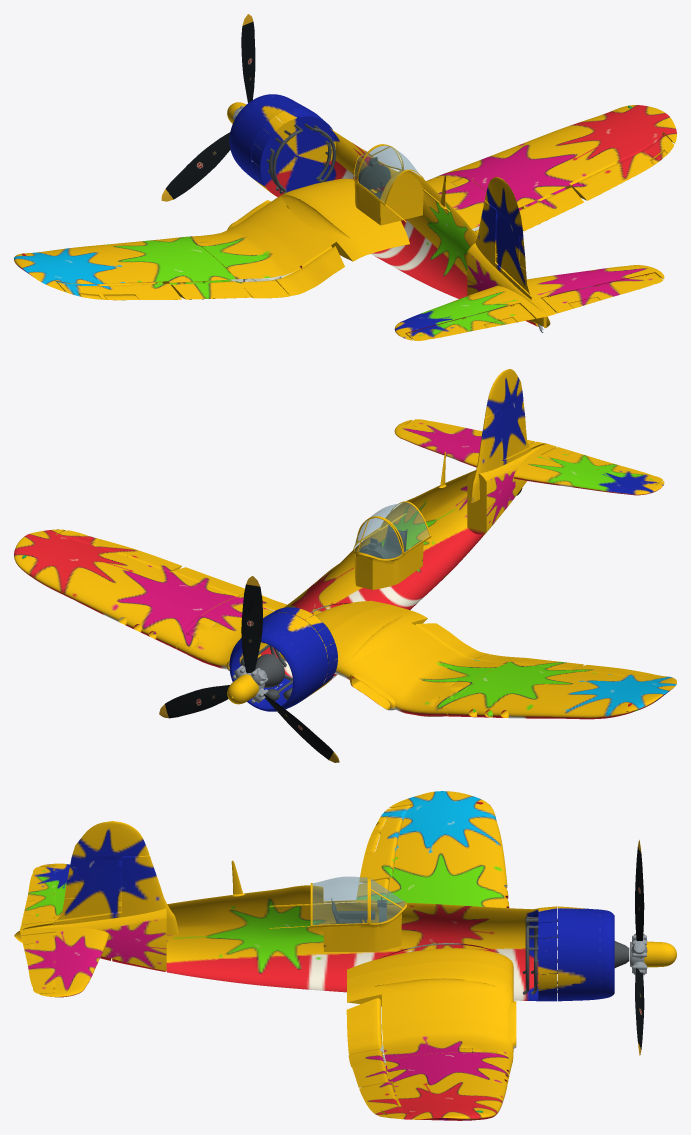
The model's file is aircraft_splash.glb.
3 renders of one model, top to bottom at view 1: azimuth 30°, elevation 25°; view 2: azimuth 150°, elevation 25°; view 3: azimuth 270°, elevation 25°, orthographic. The views are drawn at different scales.
Visible parts, largest first — view 1: fuselage_core, wing_center_fixed, wing_right_fixed, wing_left_fixed, stabilizer_fixed, elevator, cowl, propeller_rotor, rudder, aileron_right, canopy_glass, aileron_left (+8 smaller); view 2: wing_center_fixed, fuselage_core, wing_right_fixed, wing_left_fixed, cowl, stabilizer_fixed, propeller_rotor, rudder, elevator, fin_fixed, canopy_glass, windshield_glass (+6 smaller); view 3: fuselage_core, wing_center_fixed, wing_left_fixed, wing_right_fixed, cowl, rudder, stabilizer_fixed, elevator, fin_fixed, propeller_rotor, canopy_glass, aileron_left (+8 smaller).
Boxes of the visible parts, x1,y1,x2,y2 form: fuselage_core: [259, 116, 550, 327]; wing_center_fixed: [179, 170, 486, 281]; wing_right_fixed: [452, 105, 676, 210]; wing_left_fixed: [14, 237, 235, 292]; stabilizer_fixed: [394, 265, 664, 340]; elevator: [406, 273, 662, 340]; cowl: [229, 94, 332, 195]; propeller_rotor: [161, 14, 255, 201]; rudder: [485, 177, 530, 294]; aileron_right: [570, 134, 674, 200]; canopy_glass: [358, 145, 420, 202]; aileron_left: [57, 282, 181, 300]; wing_center_fixed: [175, 597, 506, 716]; fuselage_core: [259, 443, 546, 687]; wing_right_fixed: [14, 529, 235, 649]; wing_left_fixed: [447, 663, 676, 719]; cowl: [229, 607, 337, 711]; stabilizer_fixed: [394, 419, 664, 495]; propeller_rotor: [159, 576, 339, 762]; rudder: [485, 369, 529, 459]; elevator: [407, 419, 662, 485]; fin_fixed: [470, 409, 531, 502]; canopy_glass: [358, 502, 429, 552]; windshield_glass: [354, 518, 401, 558]; fuselage_core: [14, 860, 541, 1001]; wing_center_fixed: [347, 943, 516, 1069]; wing_left_fixed: [387, 791, 509, 907]; wing_right_fixed: [385, 1053, 511, 1120]; cowl: [538, 906, 614, 1001]; rudder: [55, 821, 149, 920]; stabilizer_fixed: [20, 863, 109, 997]; elevator: [21, 866, 55, 993]; fin_fixed: [52, 855, 178, 935]; propeller_rotor: [630, 840, 676, 1055]; canopy_glass: [312, 876, 367, 924]; aileron_left: [359, 805, 410, 882].
Bounding box in the file's own units: 2.78 × 0.7709 × 2.38.
Materials: 14 (7 with a texture image).
